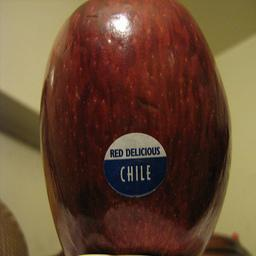apple: (38, 1, 233, 255)
